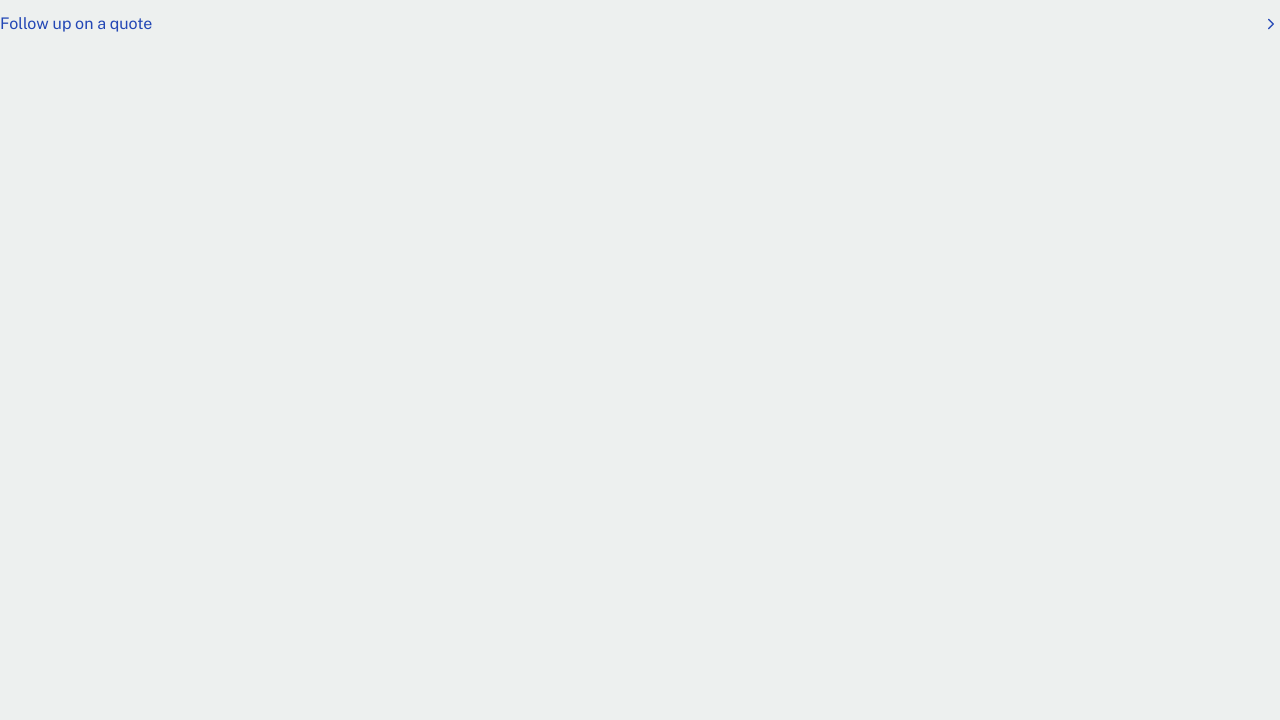
Morning draft review › opens without sending, then restores focus when Escape closes it
Click the button "Follow up on a quote". click: (76, 24)
box: [0,0,1279,49]
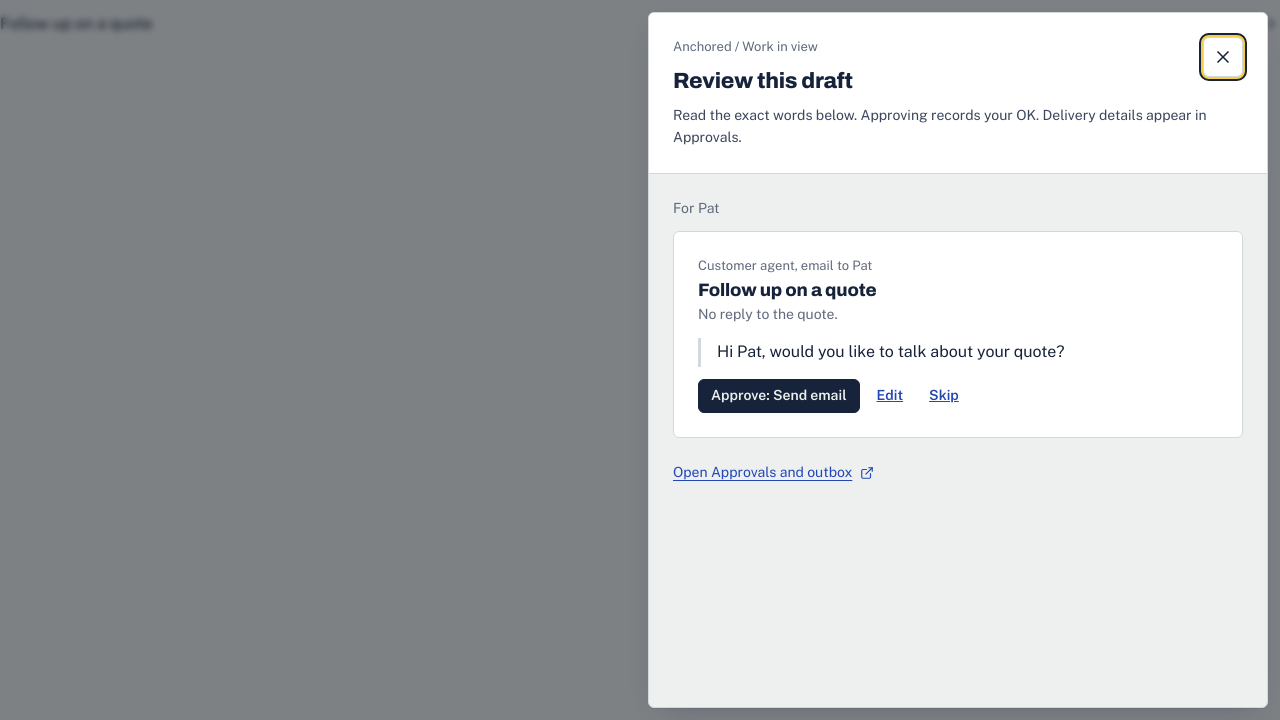
Now the dialog "Review this draft" is shown, box [648,12,1268,708]
Press Escape
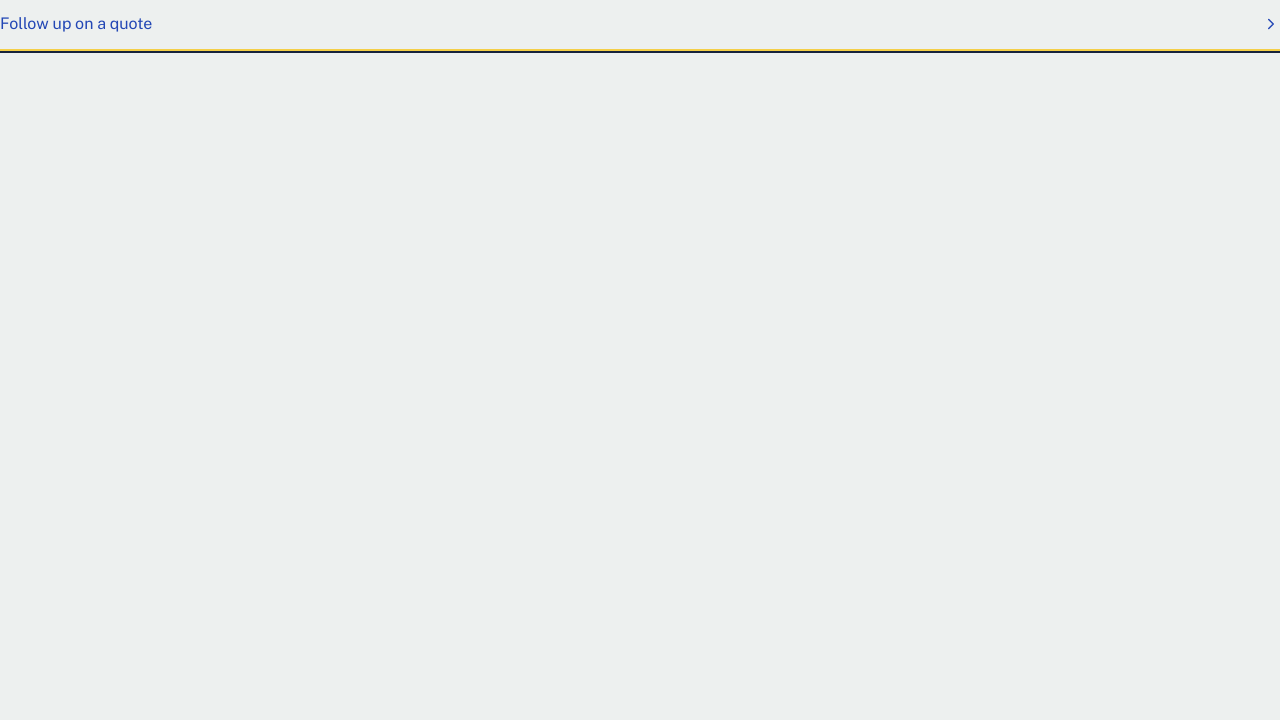
Now the dialog is gone
